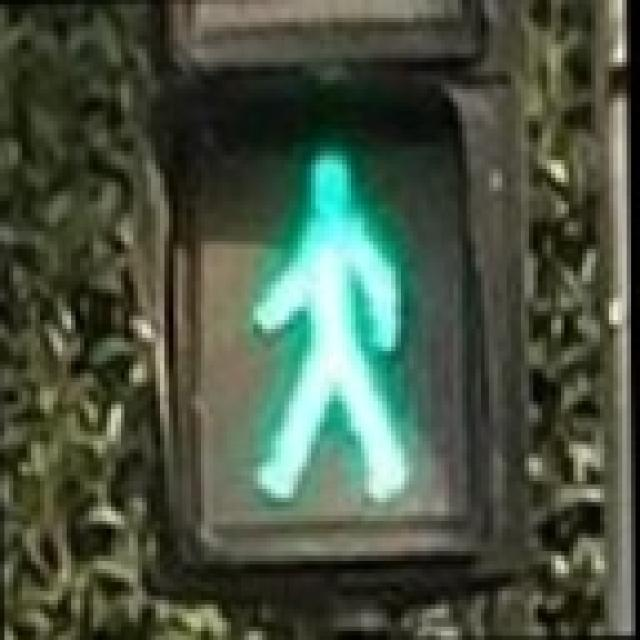green_light: (178, 102, 449, 534)
